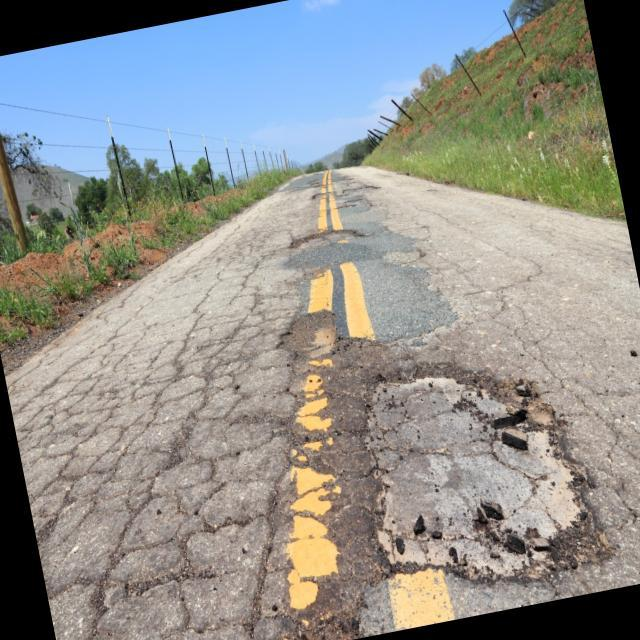Pothole: (353, 332, 617, 618), (274, 294, 348, 372), (286, 216, 369, 258)
